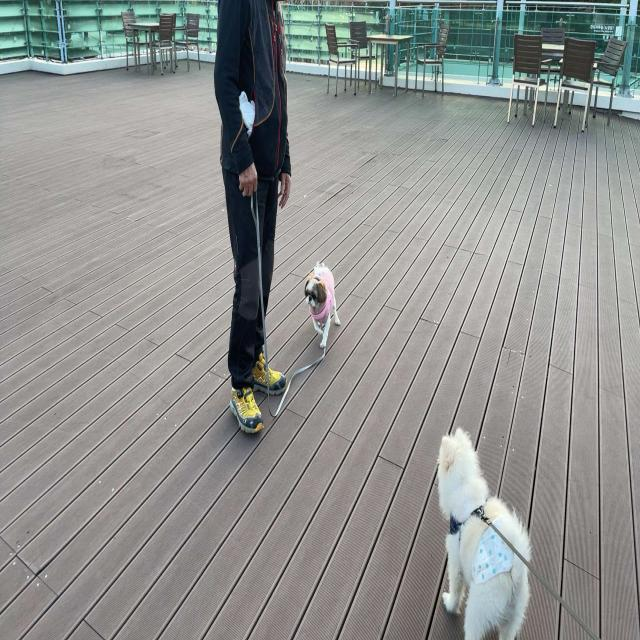Dog: (437, 426, 532, 640)
Leashed_Dog: (248, 143, 340, 422)
